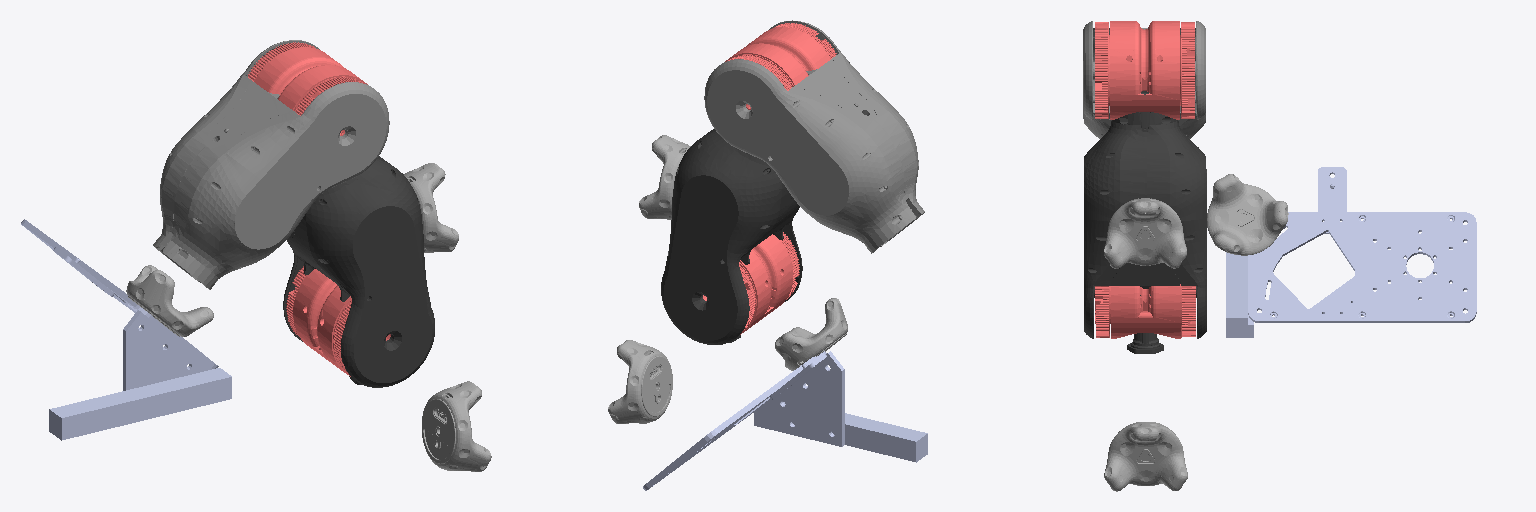
URDF robot description (koko_description_fivedof_kin):
<robot
  name="koko_description_fivedof_kin">
  <link
    name="base_link">
    <inertial>
      <origin
        xyz="0.0128424654307168 -0.162261711643048 0.155657622910268"
        rpy="0 0 0" />
      <mass
        value="2.50668095471534" />
      <inertia
        ixx="0.0599827724543488"
        ixy="-0.00761117858508908"
        ixz="0.000334029187700718"
        iyy="0.0597504740015784"
        iyz="-0.000387733898574592"
        izz="0.0375364118295859" />
    </inertial>
    <visual>
      <origin
        xyz="0 0 0"
        rpy="0 0 0" />
      <geometry>
        <mesh
          filename="package://koko_description_fivedof_kin/meshes/base_link.STL" />
      </geometry>
      <material
        name="">
        <color
          rgba="0.792156862745098 0.819607843137255 0.933333333333333 1" />
      </material>
    </visual>
    <collision>
      <origin
        xyz="0 0 0"
        rpy="0 0 0" />
      <geometry>
        <mesh
          filename="package://koko_description_fivedof_kin/meshes/base_link.STL" />
      </geometry>
    </collision>
  </link>
  <link
    name="shoulder_link">
    <inertial>
      <origin
        xyz="-0.00747857928130133 -2.49194120865437E-05 0.0799282586928382"
        rpy="0 0 0" />
      <mass
        value="4.07268031053917" />
      <inertia
        ixx="0.00617143795854479"
        ixy="-6.35746532027821E-07"
        ixz="-7.28585946612186E-06"
        iyy="0.00633184740729349"
        iyz="-4.26811662563041E-07"
        izz="0.0059399912337155" />
    </inertial>
    <visual>
      <origin
        xyz="0 0 0"
        rpy="0 0 0" />
      <geometry>
        <mesh
          filename="package://koko_description_fivedof_kin/meshes/shoulder_link.STL" />
      </geometry>
      <material
        name="">
        <color
          rgba="0.6 0.6 0.6 1" />
      </material>
    </visual>
    <collision>
      <origin
        xyz="0 0 0"
        rpy="0 0 0" />
      <geometry>
        <mesh
          filename="package://koko_description_fivedof_kin/meshes/shoulder_link.STL" />
      </geometry>
    </collision>
  </link>
  <joint
    name="base_roll_joint"
    type="continuous">
    <origin
      xyz="0.0966447291250239 -0.0908049999999999 0.218621617367798"
      rpy="6.83851519316138E-15 0.785398163397447 4.83556046633164E-15" />
    <parent
      link="base_link" />
    <child
      link="shoulder_link" />
    <axis
      xyz="0 0 1" />
  </joint>
  <link
    name="shoulder_lift_link">
    <inertial>
      <origin
        xyz="-0.00050941837756377 0.00189435004391486 -3.43465409446964E-08"
        rpy="0 0 0" />
      <mass
        value="0.437261345246881" />
      <inertia
        ixx="0.00102610376988145"
        ixy="-1.55407229811396E-05"
        ixz="-6.48315328100395E-07"
        iyy="0.00108268516791602"
        iyz="-6.869263520968E-07"
        izz="0.000657530165361203" />
    </inertial>
    <visual>
      <origin
        xyz="0 0 0"
        rpy="0 0 0" />
      <geometry>
        <mesh
          filename="package://koko_description_fivedof_kin/meshes/shoulder_lift_link.STL" />
      </geometry>
      <material
        name="">
        <color
          rgba="1 0.501960784313725 0.501960784313725 1" />
      </material>
    </visual>
    <collision>
      <origin
        xyz="0 0 0"
        rpy="0 0 0" />
      <geometry>
        <mesh
          filename="package://koko_description_fivedof_kin/meshes/shoulder_lift_link.STL" />
      </geometry>
    </collision>
  </link>
  <joint
    name="shoulder_lift_joint"
    type="continuous">
    <origin
      xyz="0.0114299285786579 4.04065193964076E-05 0.201676000000001"
      rpy="1.5707963267949 -0.785395039094458 0.0035351359132397" />
    <parent
      link="shoulder_link" />
    <child
      link="shoulder_lift_link" />
    <axis
      xyz="0 0 1" />
  </joint>
  <link
    name="upper_arm_link">
    <inertial>
      <origin
        xyz="0.0071539392870133 -1.68573131459349E-05 0.0548011173337356"
        rpy="0 0 0" />
      <mass
        value="4.18907370537364" />
      <inertia
        ixx="0.00782694806513304"
        ixy="4.93162874925591E-07"
        ixz="0.000134846912278907"
        iyy="0.00801358654939988"
        iyz="1.56716813961893E-06"
        izz="0.00601991405955648" />
    </inertial>
    <visual>
      <origin
        xyz="0 0 0"
        rpy="0 0 0" />
      <geometry>
        <mesh
          filename="package://koko_description_fivedof_kin/meshes/upper_arm_link.STL" />
      </geometry>
      <material
        name="">
        <color
          rgba="0.298039215686275 0.298039215686275 0.298039215686275 1" />
      </material>
    </visual>
    <collision>
      <origin
        xyz="0 0 0"
        rpy="0 0 0" />
      <geometry>
        <mesh
          filename="package://koko_description_fivedof_kin/meshes/upper_arm_link.STL" />
      </geometry>
    </collision>
  </link>
  <joint
    name="shoulder_roll_joint"
    type="continuous">
    <origin
      xyz="0.0185369354147557 -0.0681800006921313 0"
      rpy="1.5707963267949 -0.00259045364213944 0.265465420981425" />
    <parent
      link="shoulder_lift_link" />
    <child
      link="upper_arm_link" />
    <axis
      xyz="0 0 -1" />
  </joint>
  <link
    name="upper_arm_lift_link">
    <inertial>
      <origin
        xyz="-0.000218842262255881 0.00199077302431142 2.88498979705842E-08"
        rpy="0 0 0" />
      <mass
        value="0.424523142313433" />
      <inertia
        ixx="0.00101023991051721"
        ixy="-1.07390769836644E-05"
        ixz="-1.81536740952194E-06"
        iyy="0.00107184608421791"
        iyz="-8.37681703321027E-07"
        izz="0.000658498963913288" />
    </inertial>
    <visual>
      <origin
        xyz="0 0 0"
        rpy="0 0 0" />
      <geometry>
        <mesh
          filename="package://koko_description_fivedof_kin/meshes/upper_arm_lift_link.STL" />
      </geometry>
      <material
        name="">
        <color
          rgba="1 0.501960784313725 0.501960784313725 1" />
      </material>
    </visual>
    <collision>
      <origin
        xyz="0 0 0"
        rpy="0 0 0" />
      <geometry>
        <mesh
          filename="package://koko_description_fivedof_kin/meshes/upper_arm_lift_link.STL" />
      </geometry>
    </collision>
  </link>
  <joint
    name="elbow_lift_joint"
    type="continuous">
    <origin
      xyz="-0.0114299606048832 2.96084406938846E-05 0.181015691671218"
      rpy="-1.5707963267949 -0.265459172375448 -0.00259045364213955" />
    <parent
      link="upper_arm_link" />
    <child
      link="upper_arm_lift_link" />
    <axis
      xyz="0 0 1" />
  </joint>
  <link
    name="forearm_link">
    <inertial>
      <origin
        xyz="0.00474985548204007 -5.32571640061708E-05 0.0730980120124444"
        rpy="0 0 0" />
      <mass
        value="4.66605873777198" />
      <inertia
        ixx="0.0158343232786075"
        ixy="-4.83291933339679E-07"
        ixz="0.00140172468299471"
        iyy="0.015906388412809"
        iyz="-7.27024540810356E-06"
        izz="0.0073657034904474" />
    </inertial>
    <visual>
      <origin
        xyz="0 0 0"
        rpy="0 0 0" />
      <geometry>
        <mesh
          filename="package://koko_description_fivedof_kin/meshes/forearm_link.STL" />
      </geometry>
      <material
        name="">
        <color
          rgba="0.298039215686275 0.298039215686275 0.298039215686275 1" />
      </material>
    </visual>
    <collision>
      <origin
        xyz="0 0 0"
        rpy="0 0 0" />
      <geometry>
        <mesh
          filename="package://koko_description_fivedof_kin/meshes/forearm_link.STL" />
      </geometry>
    </collision>
  </link>
  <joint
    name="elbow_roll_joint"
    type="continuous">
    <origin
      xyz="0.0118025765508603 -0.0696622541660661 0"
      rpy="1.5707963267949 -0.00253533924781029 0.167831940552949" />
    <parent
      link="upper_arm_lift_link" />
    <child
      link="forearm_link" />
    <axis
      xyz="0 0 -1" />
  </joint>
  <link
    name="forearm_tracker_link">
    <inertial>
      <origin
        xyz="-7.78112474064674E-07 3.04102563280194E-05 0.014311863530617"
        rpy="0 0 0" />
      <mass
        value="0.0852058630561248" />
      <inertia
        ixx="5.02601180298056E-05"
        ixy="3.54406064372797E-09"
        ixz="7.90416884357265E-10"
        iyy="5.05430565473139E-05"
        iyz="-1.5445675030937E-07"
        izz="8.48822590393088E-05" />
    </inertial>
    <visual>
      <origin
        xyz="0 0 0"
        rpy="0 0 0" />
      <geometry>
        <mesh
          filename="package://koko_description_fivedof_kin/meshes/forearm_tracker_link.STL" />
      </geometry>
      <material
        name="">
        <color
          rgba="0.698039215686274 0.698039215686274 0.698039215686274 1" />
      </material>
    </visual>
    <collision>
      <origin
        xyz="0 0 0"
        rpy="0 0 0" />
      <geometry>
        <mesh
          filename="package://koko_description_fivedof_kin/meshes/forearm_tracker_link.STL" />
      </geometry>
    </collision>
  </link>
  <joint
    name="forearm_tracker_joint"
    type="fixed">
    <origin
      xyz="0.0683718553549543 -0.000173551450839082 0.0965426886757189"
      rpy="1.2602877982261 -4.06012139668227E-05 1.56827401600182" />
    <parent
      link="forearm_link" />
    <child
      link="forearm_tracker_link" />
    <axis
      xyz="0 0 0" />
  </joint>
  <link
    name="upper_arm_tracker_link">
    <inertial>
      <origin
        xyz="-7.95430838251843E-07 3.04140221774329E-05 0.0143118605448434"
        rpy="0 0 0" />
      <mass
        value="0.0852058724544114" />
      <inertia
        ixx="5.0260134924051E-05"
        ixy="3.5401689425363E-09"
        ixz="7.98393811757983E-10"
        iyy="5.05430365322614E-05"
        iyz="-1.54474115414265E-07"
        izz="8.4882269874301E-05" />
    </inertial>
    <visual>
      <origin
        xyz="0 0 0"
        rpy="0 0 0" />
      <geometry>
        <mesh
          filename="package://koko_description_fivedof_kin/meshes/upper_arm_tracker_link.STL" />
      </geometry>
      <material
        name="">
        <color
          rgba="0.698039215686274 0.698039215686274 0.698039215686274 1" />
      </material>
    </visual>
    <collision>
      <origin
        xyz="0 0 0"
        rpy="0 0 0" />
      <geometry>
        <mesh
          filename="package://koko_description_fivedof_kin/meshes/upper_arm_tracker_link.STL" />
      </geometry>
    </collision>
  </link>
  <joint
    name="upper_arm_tracker_joint"
    type="fixed">
    <origin
      xyz="0.068372 -0.00017732 0.096543"
      rpy="1.2603 -2.2741E-05 1.5682" />
    <parent
      link="upper_arm_link" />
    <child
      link="upper_arm_tracker_link" />
    <axis
      xyz="0 0 0" />
  </joint>
  <link
    name="base_tracker_link">
    <inertial>
      <origin
        xyz="4.43507453540271E-08 3.09552203211494E-05 0.0143117399037371"
        rpy="0 0 0" />
      <mass
        value="0.0852031301907352" />
      <inertia
        ixx="5.02578521392565E-05"
        ixy="4.7925897537491E-09"
        ixz="9.20656645295695E-10"
        iyy="5.05426153010017E-05"
        iyz="-1.54378610465991E-07"
        izz="8.48796208959856E-05" />
    </inertial>
    <visual>
      <origin
        xyz="0 0 0"
        rpy="0 0 0" />
      <geometry>
        <mesh
          filename="package://koko_description_fivedof_kin/meshes/base_tracker_link.STL" />
      </geometry>
      <material
        name="">
        <color
          rgba="0.698039215686274 0.698039215686274 0.698039215686274 1" />
      </material>
    </visual>
    <collision>
      <origin
        xyz="0 0 0"
        rpy="0 0 0" />
      <geometry>
        <mesh
          filename="package://koko_description_fivedof_kin/meshes/base_tracker_link.STL" />
      </geometry>
    </collision>
  </link>
  <joint
    name="base_tracker_joint"
    type="fixed">
    <origin
      xyz="0.122544343576621 0.0211413433675803 0.104502933199187"
      rpy="-0.00215895279379528 -0.78539656263699 -3.1385396042896" />
    <parent
      link="base_link" />
    <child
      link="base_tracker_link" />
    <axis
      xyz="0 0 0" />
  </joint>
</robot>

--- Facts derived from the render (not from the file) ---
The picture shows the robot from 3 angles, left to right: view 1: azimuth 30°, elevation 25°; view 2: azimuth 150°, elevation 25°; view 3: azimuth 270°, elevation 25°; orthographic projection.
Model koko_description_fivedof_kin with 9 links and 8 joints (5 continuous, 3 fixed), rooted at base_link, posed every joint at zero.
Visible links, largest first — view 1: shoulder_link, upper_arm_link, base_link, shoulder_lift_link, forearm_tracker_link, upper_arm_lift_link, base_tracker_link, upper_arm_tracker_link; view 2: shoulder_link, upper_arm_link, base_link, forearm_tracker_link, shoulder_lift_link, upper_arm_lift_link, base_tracker_link, upper_arm_tracker_link; view 3: base_link, upper_arm_link, shoulder_lift_link, upper_arm_lift_link, base_tracker_link, upper_arm_tracker_link, forearm_tracker_link, shoulder_link.
Link boxes in pixels (<box>): shoulder_link: <box>153,40,389,289</box>; upper_arm_link: <box>283,156,434,387</box>; base_link: <box>21,219,231,440</box>; shoulder_lift_link: <box>248,42,367,135</box>; forearm_tracker_link: <box>422,381,491,471</box>; upper_arm_lift_link: <box>286,266,390,376</box>; base_tracker_link: <box>126,265,213,336</box>; upper_arm_tracker_link: <box>404,163,458,252</box>; shoulder_link: <box>704,20,924,253</box>; upper_arm_link: <box>661,129,802,344</box>; base_link: <box>643,351,927,490</box>; forearm_tracker_link: <box>608,340,672,423</box>; shoulder_lift_link: <box>725,23,836,109</box>; upper_arm_lift_link: <box>703,232,799,334</box>; base_tracker_link: <box>775,298,847,370</box>; upper_arm_tracker_link: <box>639,135,690,219</box>; base_link: <box>1226,167,1476,337</box>; upper_arm_link: <box>1084,91,1206,353</box>; shoulder_lift_link: <box>1095,21,1194,119</box>; upper_arm_lift_link: <box>1095,284,1195,338</box>; base_tracker_link: <box>1207,174,1288,255</box>; upper_arm_tracker_link: <box>1104,198,1186,268</box>; forearm_tracker_link: <box>1104,422,1187,491</box>; shoulder_link: <box>1083,21,1205,138</box>.
Size in the robot's own frame: 0.4444 by 0.4425 by 0.4991 metres.
Meshes: 9 distinct files referenced, 8 mesh visuals loaded (8 binary STL); not drawn: 1 (reference not matched to a file when rendering).
